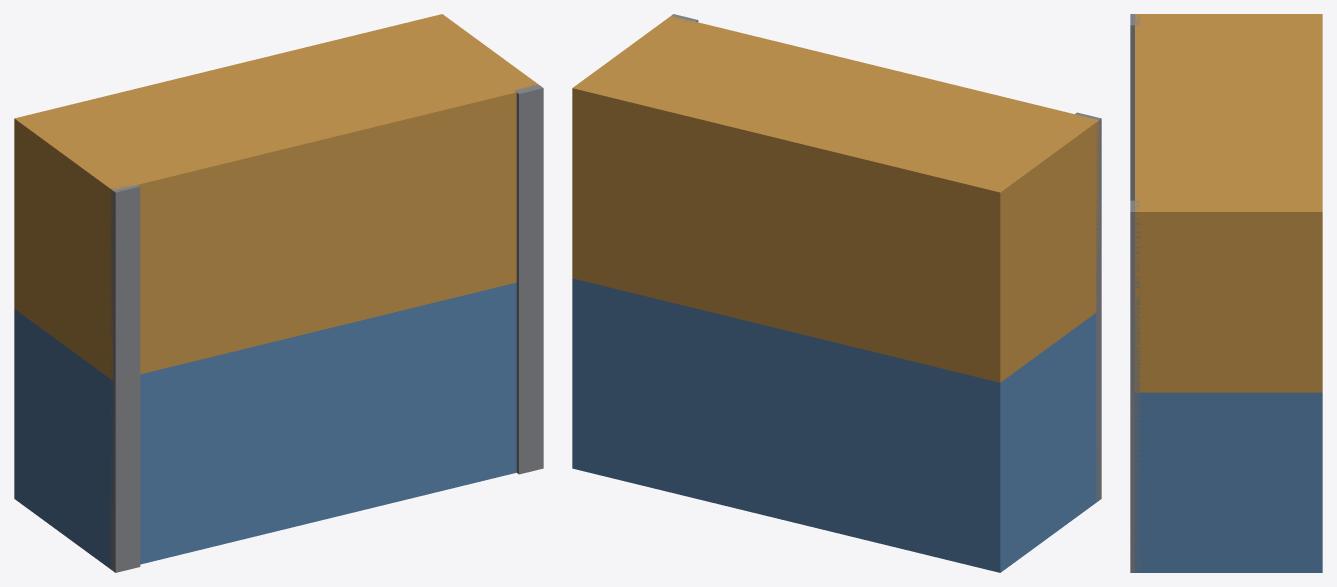
File: hk-alley-cont-blocker.glb
The picture shows the model from 3 angles, left to right: view 1: azimuth 30°, elevation 25°; view 2: azimuth 150°, elevation 25°; view 3: azimuth 270°, elevation 25°; orthographic projection. The views are drawn at different scales.
Parts seen in each view (by area): view 1: hk-alley-cont-blocker; view 2: hk-alley-cont-blocker; view 3: hk-alley-cont-blocker.
Boxes of the visible parts, x1,y1,x2,y2 form: hk-alley-cont-blocker: (14, 14, 543, 572); hk-alley-cont-blocker: (572, 14, 1101, 572); hk-alley-cont-blocker: (1130, 14, 1322, 572).
Size of the model in its own units: 6.1 by 5.18 by 2.5.
